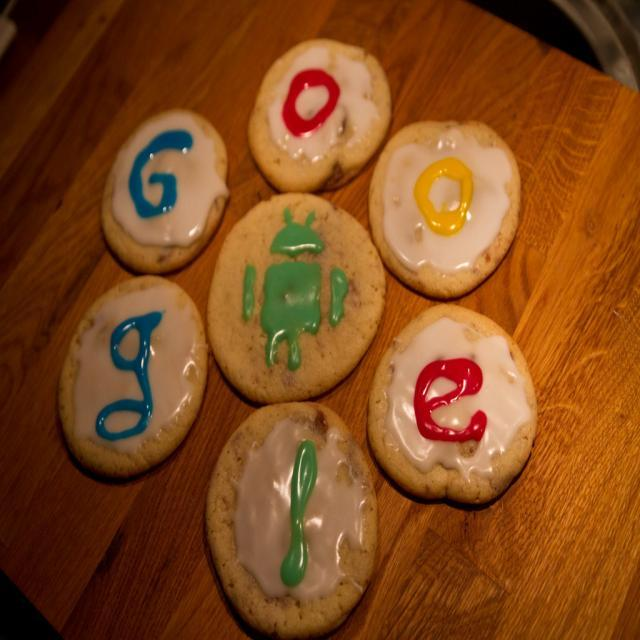Cookie: (205, 400, 377, 640), (207, 189, 385, 401), (367, 298, 537, 511), (54, 273, 206, 479), (369, 116, 522, 302), (247, 34, 395, 192), (100, 106, 230, 270)
